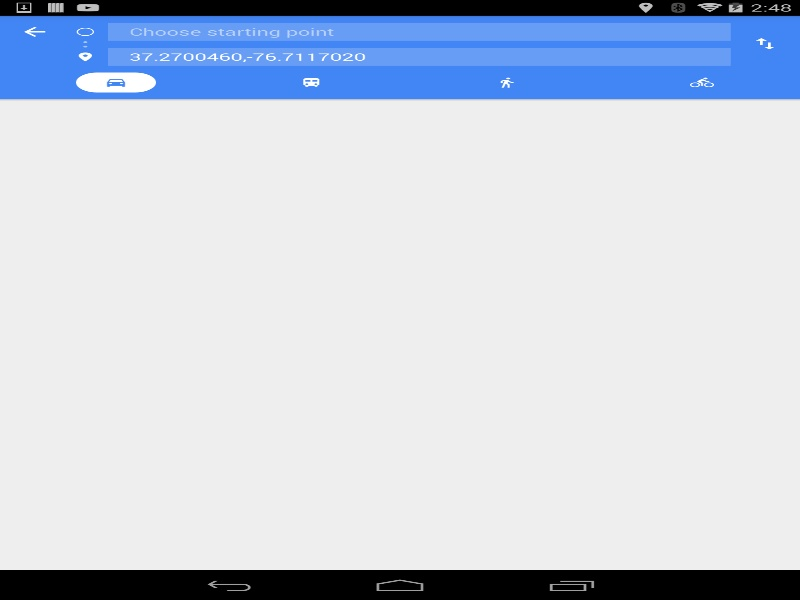Button: (12, 55, 82, 88)
Input: (108, 15, 730, 44), (108, 44, 730, 71)
